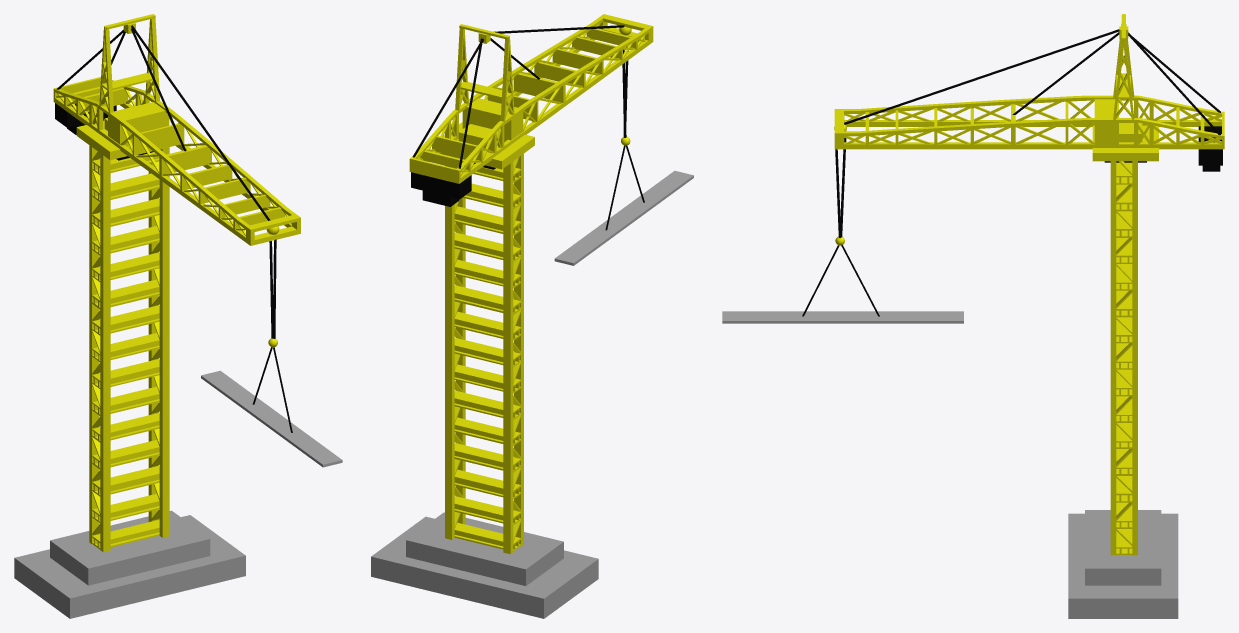
Rendered from crane fbx.fbx.
3 views of the same model, side by side, from view 1: azimuth 30°, elevation 25°; view 2: azimuth 150°, elevation 25°; view 3: azimuth 270°, elevation 25° (orthographic).
Parts seen in each view (by area): view 1: pCube76, pCube1, pCube2, pCube44, pCube77, pCube7, pCube43, pCube78, pCube75, pCube4, pCube8, pCube6 (+2 smaller); view 2: pCube76, pCube1, pCube44, pCube2, pCube7, pCube75, pCube4, pCube77, pCube78, pCube43, pCube8, pCube40 (+3 smaller); view 3: pCube76, pCube1, pCube44, pCube2, pCube7, pCube75, pCube43, pCube6, pCube8, pCylinder1.
Boxes of the visible parts, x1,y1,x2,y2 form: pCube76: [98, 147, 169, 547]; pCube1: [14, 515, 245, 618]; pCube2: [50, 510, 210, 585]; pCube44: [60, 77, 300, 234]; pCube77: [92, 153, 110, 552]; pCube7: [53, 87, 296, 245]; pCube43: [201, 370, 342, 467]; pCube78: [92, 147, 100, 542]; pCube75: [148, 161, 159, 521]; pCube4: [89, 145, 92, 543]; pCube8: [108, 102, 169, 146]; pCube6: [76, 120, 130, 160]; pCube76: [454, 167, 515, 549]; pCube1: [371, 516, 598, 618]; pCube44: [409, 14, 632, 182]; pCube2: [406, 512, 563, 585]; pCube7: [455, 15, 653, 183]; pCube75: [445, 165, 462, 539]; pCube4: [503, 161, 513, 553]; pCube77: [513, 154, 523, 551]; pCube78: [503, 157, 520, 553]; pCube43: [554, 170, 693, 265]; pCube8: [462, 98, 523, 141]; pCube40: [411, 172, 471, 199]; pCube76: [1110, 161, 1132, 555]; pCube1: [1068, 513, 1178, 618]; pCube44: [834, 102, 1224, 149]; pCube2: [1085, 510, 1161, 585]; pCube7: [834, 95, 1224, 131]; pCube75: [1115, 161, 1137, 555]; pCube43: [722, 311, 963, 323]; pCube6: [1092, 118, 1158, 161]; pCube8: [1094, 99, 1118, 144]; pCylinder1: [844, 29, 1119, 124].
Bounding box in the file's own units: 8.99 × 27.17 × 22.49.
